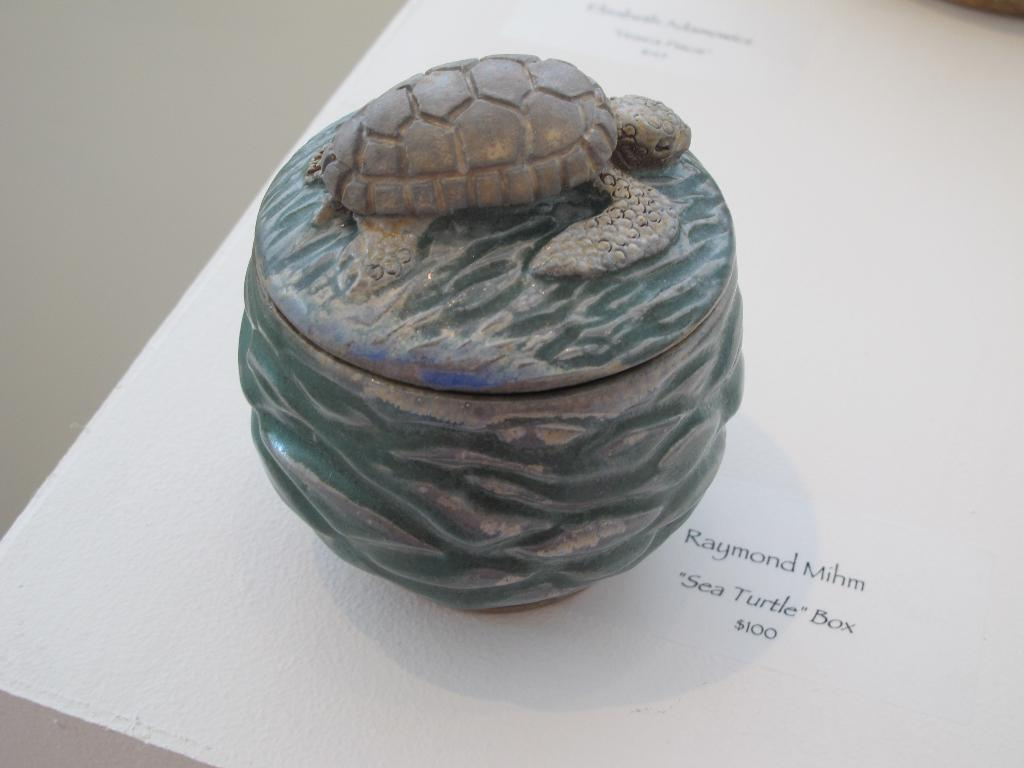Sea turtles: (296, 49, 696, 298)
